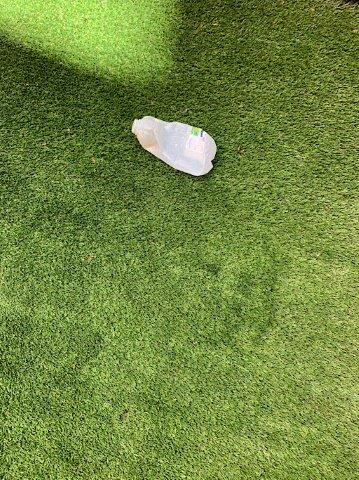botolplastik: (132, 116, 215, 174)
